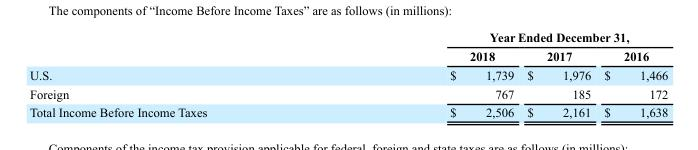table: (28, 29, 667, 119)
table column: (28, 29, 327, 119), (327, 29, 519, 119), (519, 29, 596, 119), (596, 29, 667, 119)
table column header: (28, 29, 667, 64)
table row: (28, 45, 667, 64), (28, 64, 667, 83), (28, 83, 667, 102), (28, 102, 667, 119), (28, 29, 667, 45)
table spanning cell: (327, 29, 667, 45)
